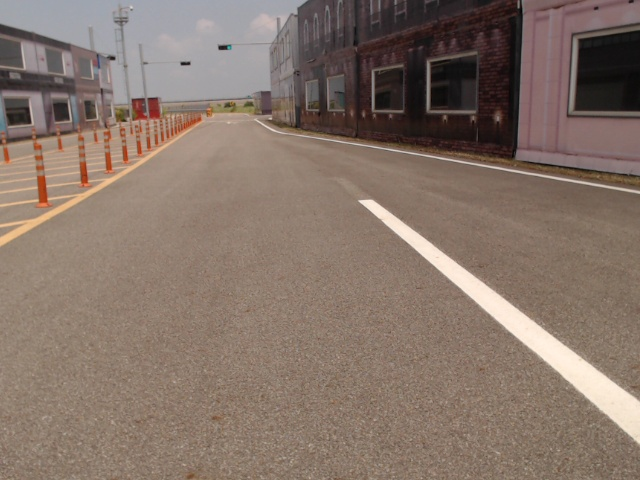green_3: (218, 45, 232, 50)
